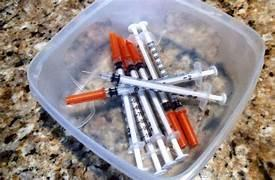Syringe: (100, 73, 226, 104), (130, 95, 166, 174), (137, 90, 173, 168), (149, 91, 185, 160), (121, 95, 143, 169), (138, 21, 167, 76), (65, 86, 136, 104), (65, 86, 135, 104), (153, 66, 217, 83), (164, 104, 185, 147)
